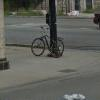Bicycle: (27, 25, 67, 60)
